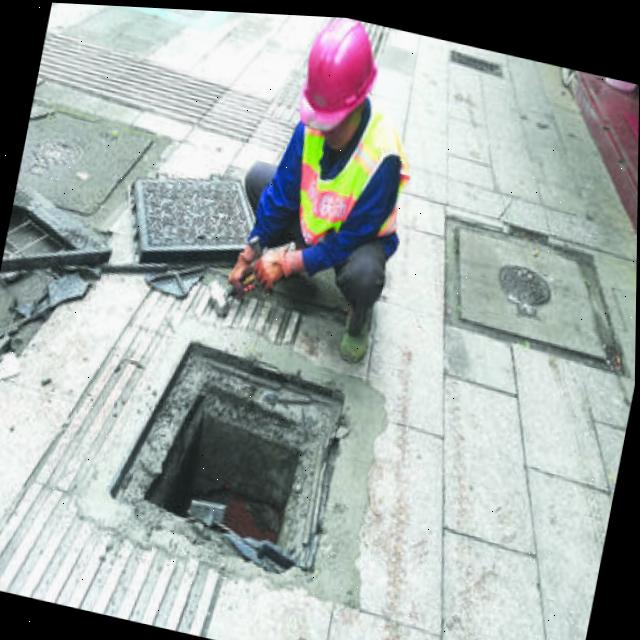manhole: (98, 317, 365, 580)
